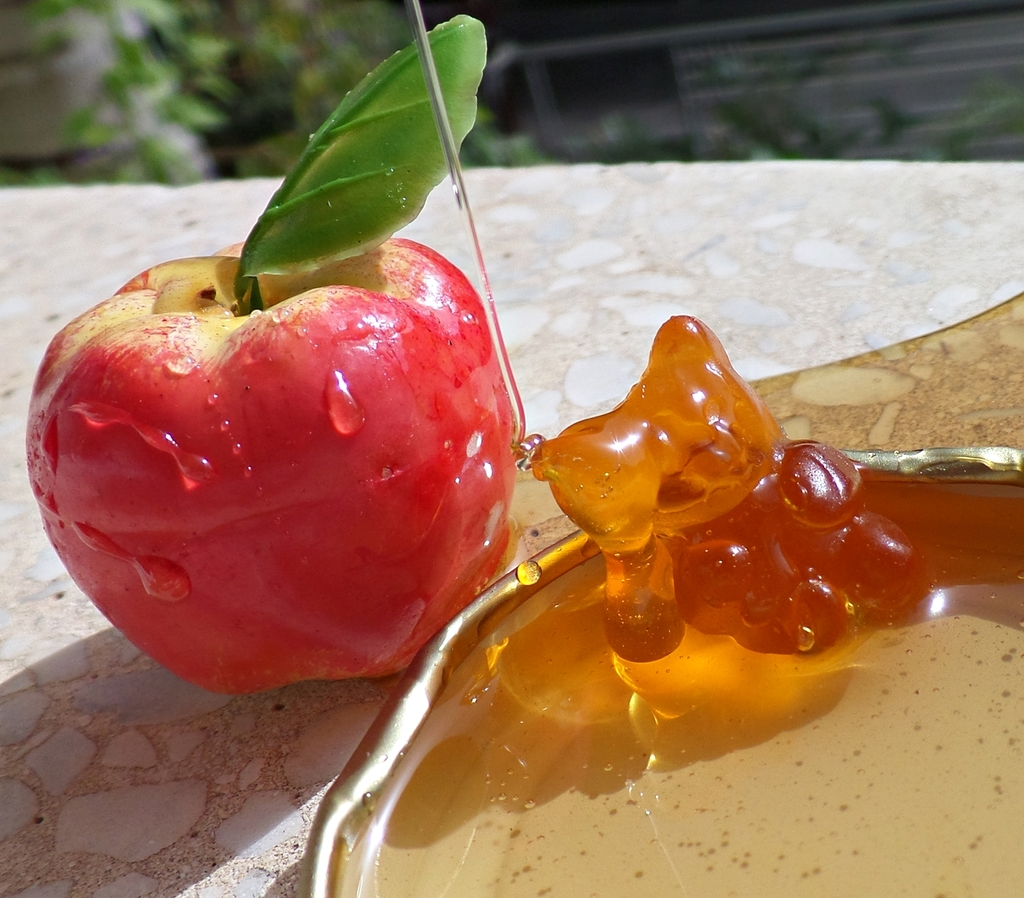Apple: (31, 227, 512, 699)
